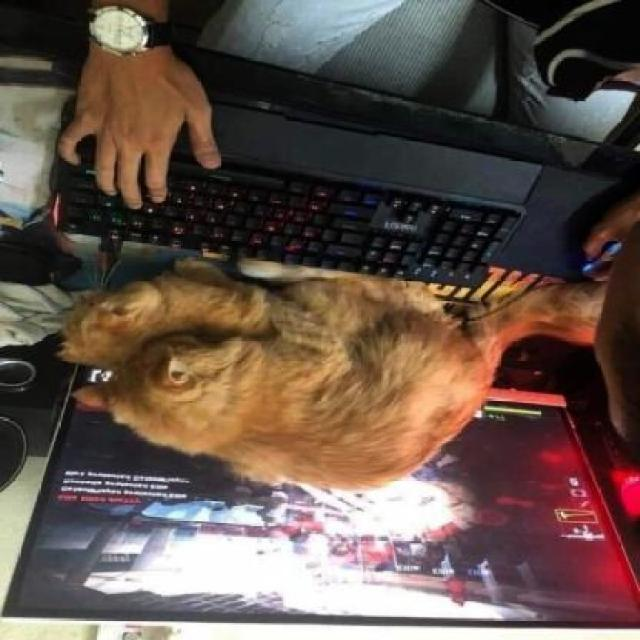cat: (58, 262, 632, 476)
